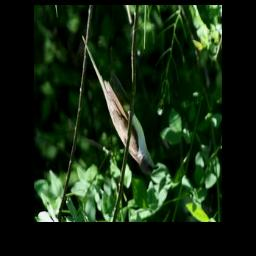Cuckoo: (81, 34, 158, 176)
